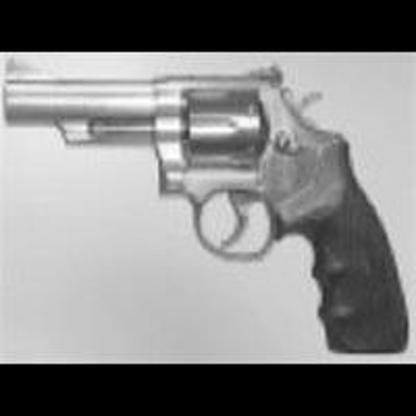weapon: (4, 59, 408, 354)
